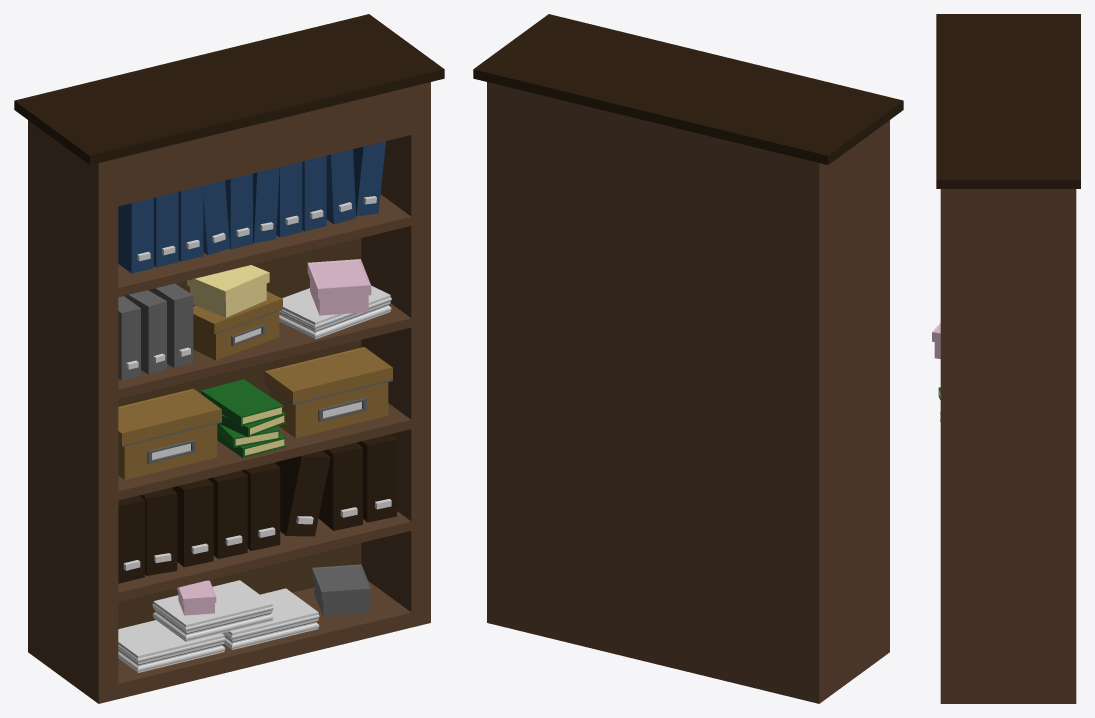
Rendered from fileshelf.fbx.
3 renders of one model, left to right at view 1: azimuth 30°, elevation 25°; view 2: azimuth 150°, elevation 25°; view 3: azimuth 270°, elevation 25°, orthographic. The views are drawn at different scales.
Visible parts, largest first — view 1: Cube.062; view 2: Cube.062; view 3: Cube.062.
Boxes of the visible parts, bbox=[...] form: Cube.062: bbox=[14, 14, 444, 703]; Cube.062: bbox=[473, 14, 903, 703]; Cube.062: bbox=[932, 14, 1080, 703].
Size of the model in its own units: 164 by 244 by 62.12.
